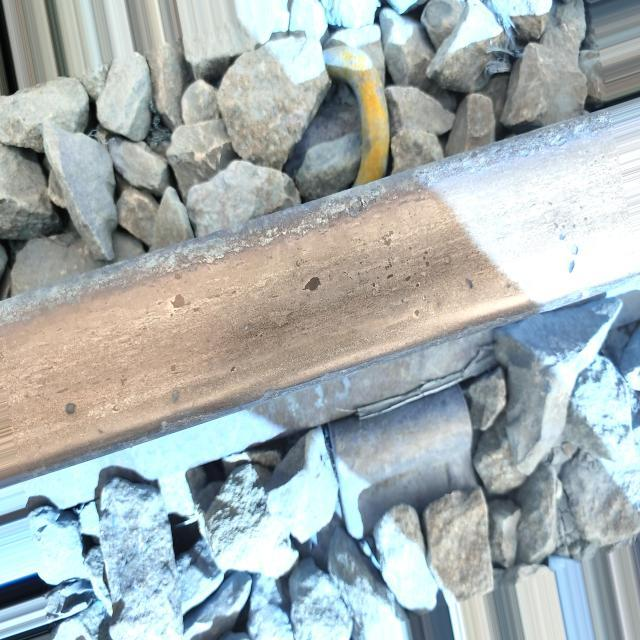Good Fasteners: (327, 46, 389, 186)
Missing Fastener: (322, 362, 497, 540)
